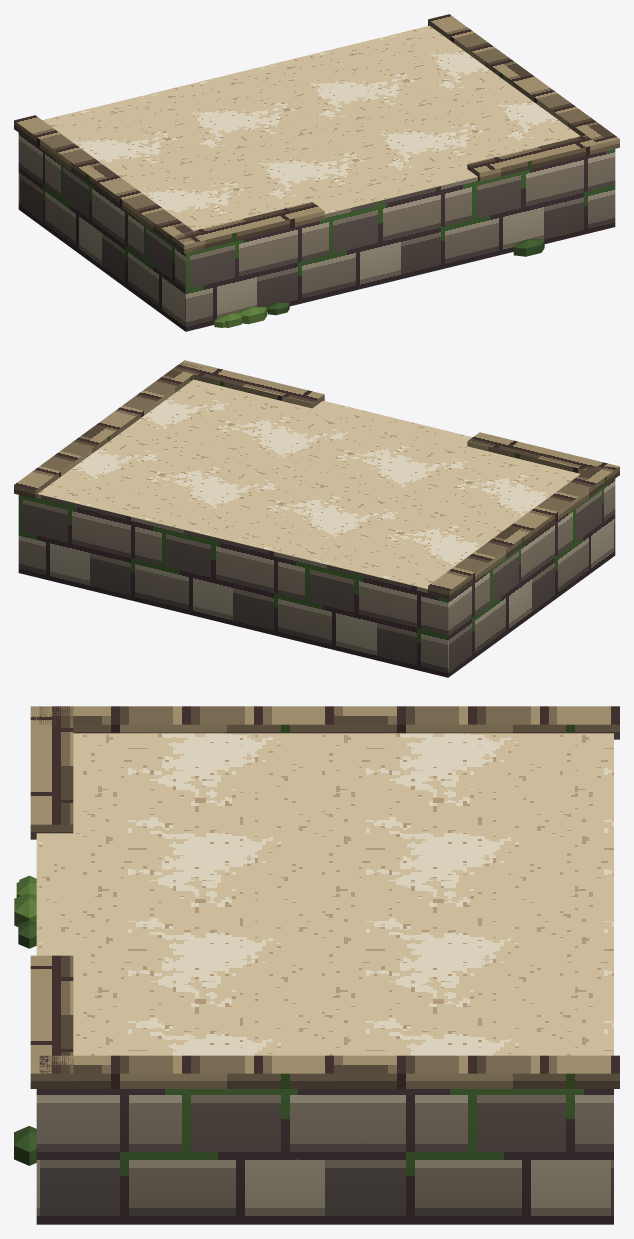
The model's file is scene_hall_terrace.glb.
3 views of the same model, one above another, from view 1: azimuth 30°, elevation 25°; view 2: azimuth 150°, elevation 25°; view 3: azimuth 270°, elevation 25° (orthographic). The views are drawn at different scales.
Visible parts, largest first — view 1: scene_hall_terrace; view 2: scene_hall_terrace; view 3: scene_hall_terrace.
Part boxes in pixels (x1,y1,x2,y2): scene_hall_terrace: (14,14,619,331); scene_hall_terrace: (14,360,619,677); scene_hall_terrace: (14,706,619,1224).
Size of the model in its own units: 7.3 by 1.51 by 5.09.
3 materials, 2 textured.
